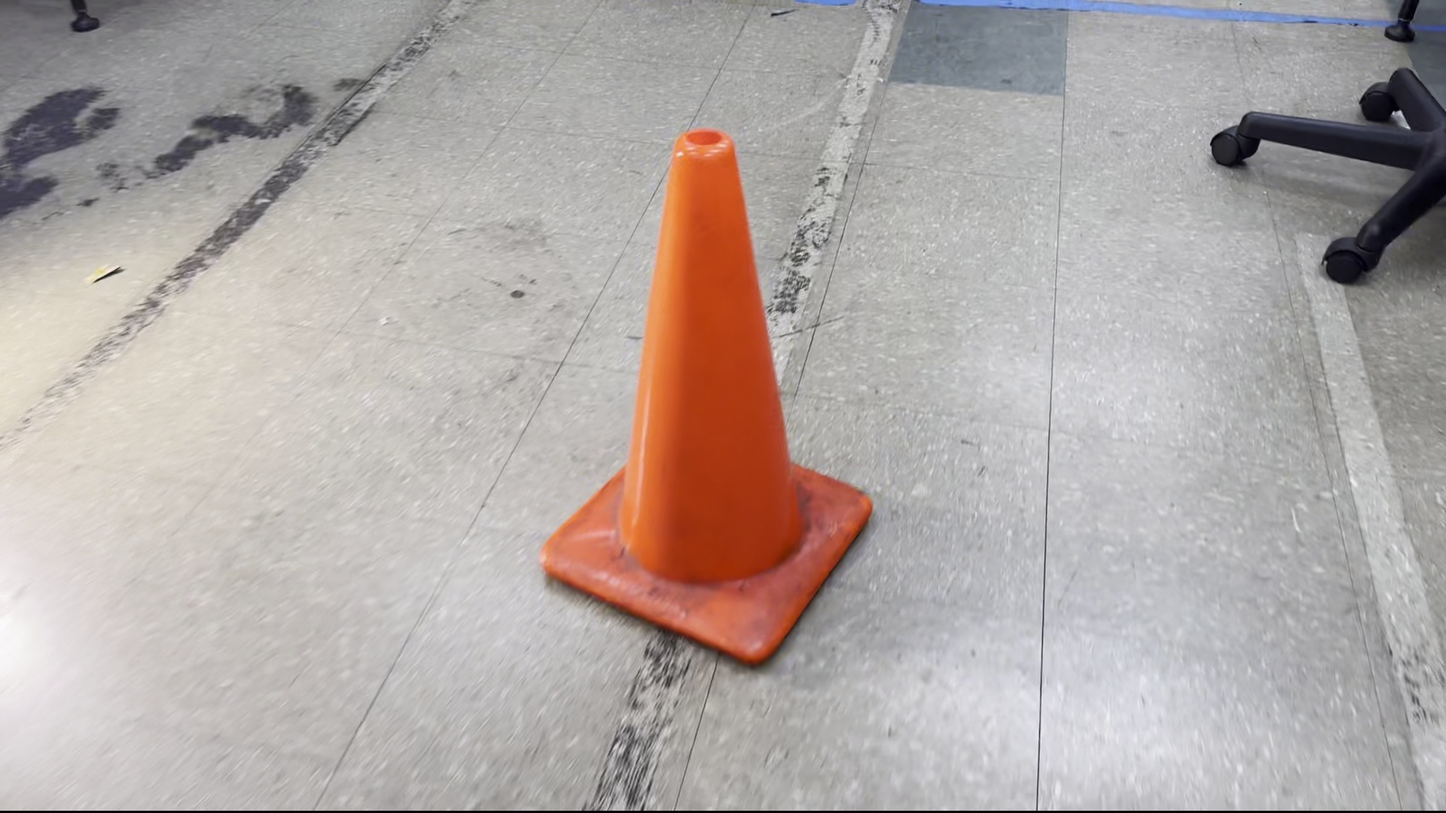traffic_cone: (539, 126, 873, 666)
